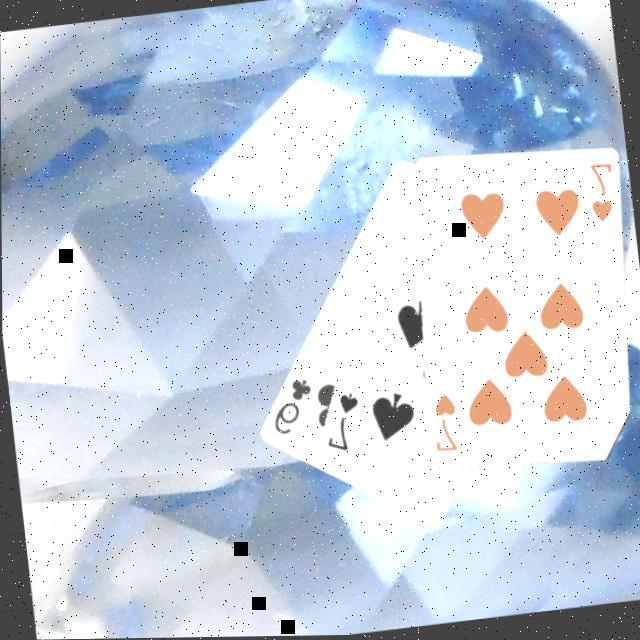6C: (263, 376, 317, 442)
7H: (425, 392, 461, 460), (582, 162, 618, 229)
7S: (316, 391, 364, 459)
